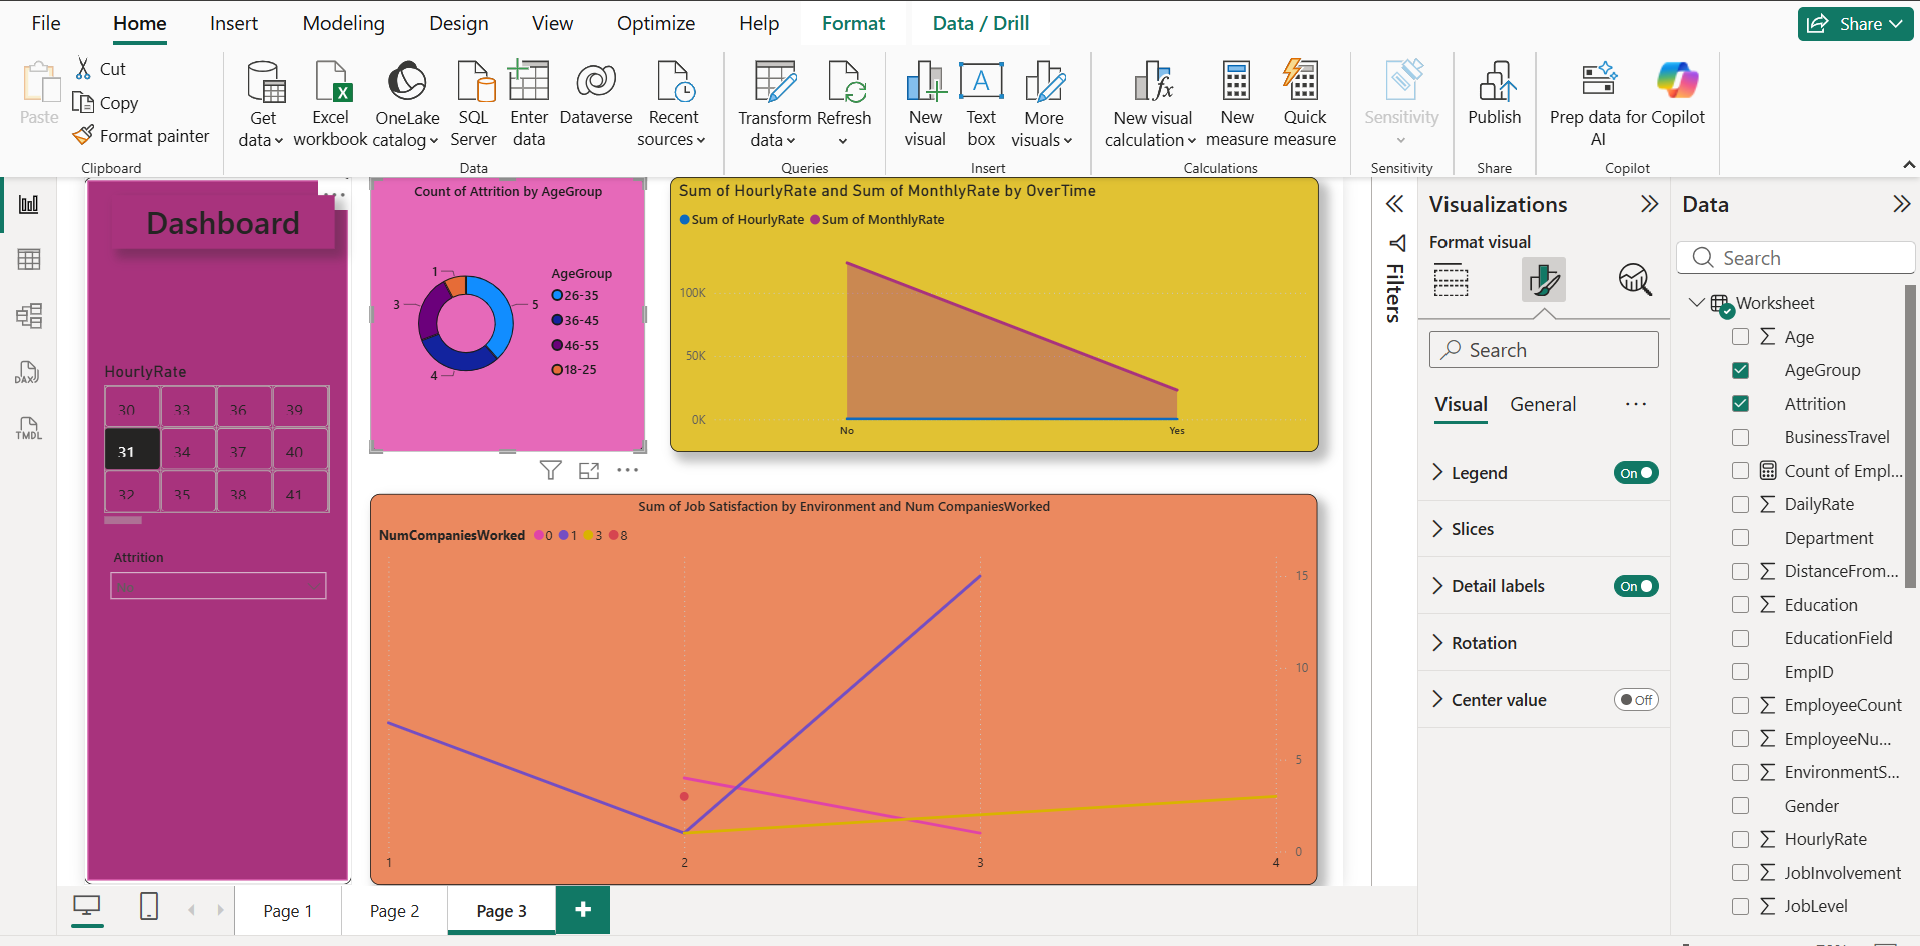

This screenshot's page, from the dashboard's own definition file:
{"tool":"powerbi","page":{"name":"Page 3","canvas":[1280,720],"ordinal":2},"visuals":[{"type":"donutChart","fields":{"Category":["Worksheet.AgeGroup"],"Y":["CountNonNull(Worksheet.Attrition)"]},"box":[291.2,0,279.7,279.7],"z":0},{"type":"shape","box":[0,0,272.5,719.3],"z":1000},{"type":"textbox","box":[28.8,18.7,226.3,54.8],"z":2000},{"type":"lineChart","title":"Sum of Job Satisfaction by Environment and Num CompaniesWorked","fields":{"Category":["Worksheet.EnvironmentSatisfaction"],"Y2":["Sum(Worksheet.JobSatisfaction)"],"Series":["Worksheet.NumCompaniesWorked"]},"box":[291.2,321.5,963,397.9],"z":3000},{"type":"areaChart","fields":{"Y":["Sum(Worksheet.HourlyRate)","Sum(Worksheet.MonthlyRate)"],"Category":["Worksheet.OverTime"]},"box":[595.4,0,658.8,279.7],"z":4000},{"type":"advancedSlicerVisual","fields":{"Values":["Worksheet.HourlyRate"]},"box":[15.9,187.4,239.3,173],"z":5000},{"type":"slicer","fields":{"Values":["Worksheet.Attrition"]},"box":[17.3,371.9,239.3,75],"z":6000}]}

Visuals, with their boxes on the page's 1280x720 design canvas (x1, y1, x2, y2). These are canvas units, not pixel positions in the 1920x946 screenshot, which may show the page scaled, cropped or inside an application window:
donutChart - Worksheet.AgeGroup x CountNonNull(Worksheet.Attrition): BBox(291, 0, 571, 280)
shape: BBox(0, 0, 272, 719)
textbox: BBox(29, 19, 255, 74)
"Sum of Job Satisfaction by Environment and Num CompaniesWorked" lineChart: BBox(291, 322, 1254, 719)
areaChart - Sum(Worksheet.HourlyRate) x Sum(Worksheet.MonthlyRate): BBox(595, 0, 1254, 280)
advancedSlicerVisual - Worksheet.HourlyRate: BBox(16, 187, 255, 360)
slicer - Worksheet.Attrition: BBox(17, 372, 257, 447)
